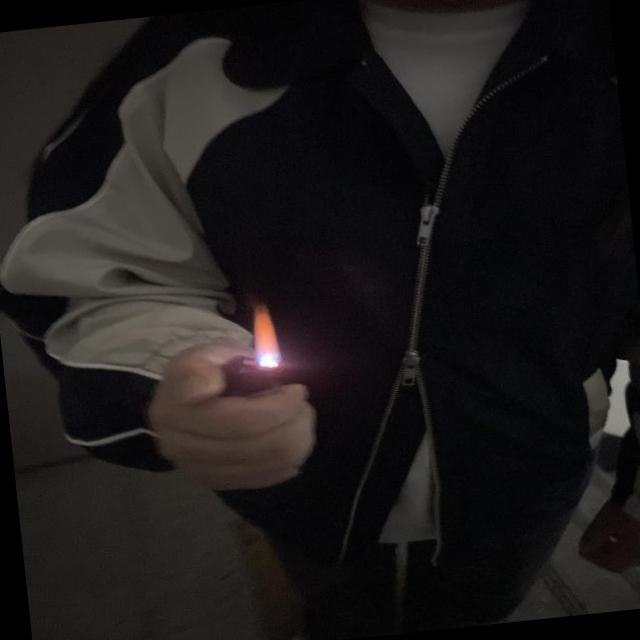Fire: (252, 304, 278, 369)
